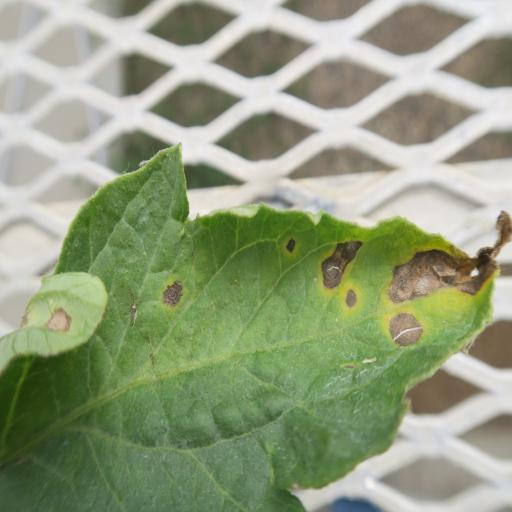disease_tomato: (0, 142, 498, 512)
